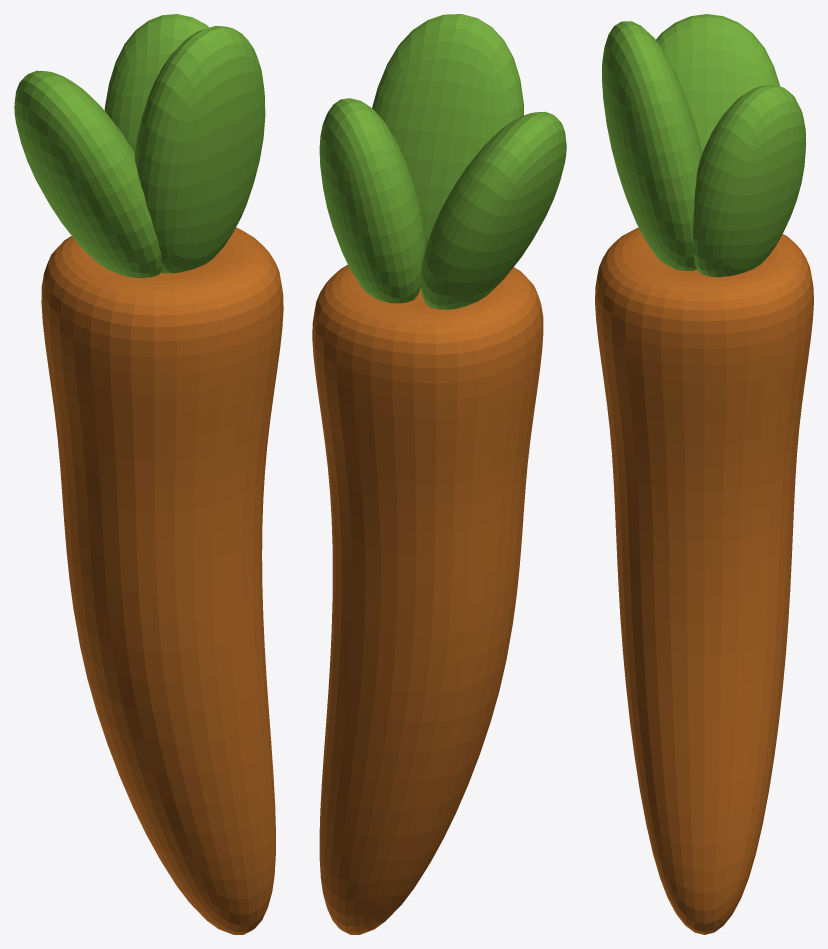
File: carrot_model_2_curved.fbx
The picture shows the model from 3 angles, left to right: view 1: azimuth 30°, elevation 25°; view 2: azimuth 150°, elevation 25°; view 3: azimuth 270°, elevation 25°; orthographic projection. The views are drawn at different scales.
Parts seen in each view (by area): view 1: Model.001; view 2: Model.001; view 3: Model.001.
Part boxes in pixels (x1=…): Model.001: x1=14, y1=14, x2=283, y2=934; Model.001: x1=312, y1=14, x2=566, y2=934; Model.001: x1=595, y1=14, x2=813, y2=934.
Size of the model in its own units: 285 by 1090 by 247.
